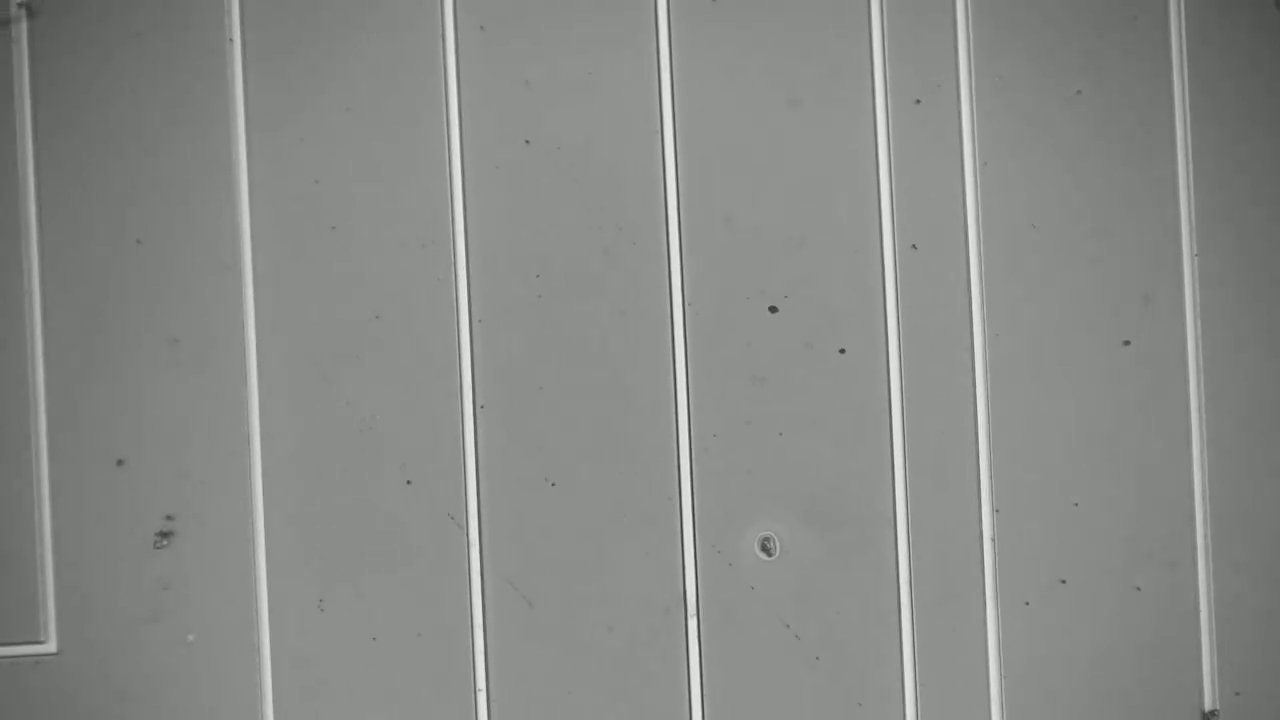stains_enbedded: (1193, 697, 1232, 720)
